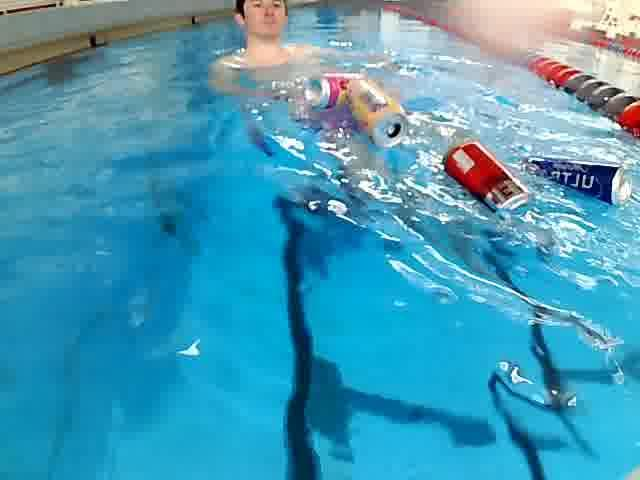Can: (439, 138, 537, 226), (515, 146, 639, 209), (338, 74, 415, 149), (298, 70, 392, 111)
